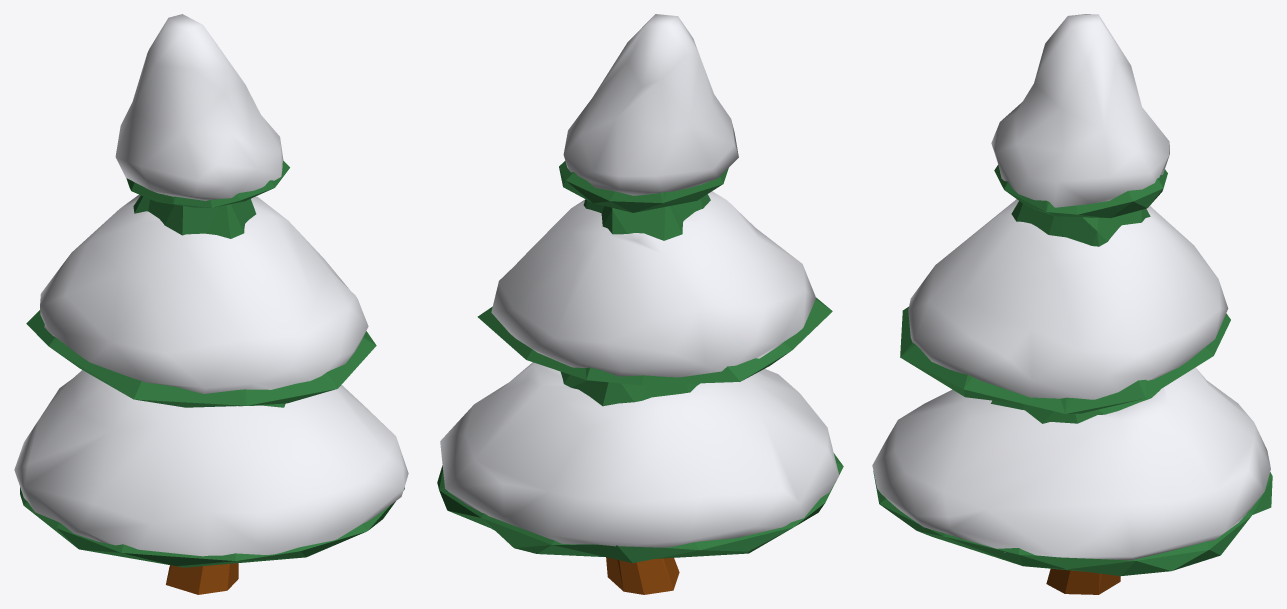
Rendered from SnowTree4.glb.
The picture shows the model from 3 angles, left to right: view 1: azimuth 30°, elevation 25°; view 2: azimuth 150°, elevation 25°; view 3: azimuth 270°, elevation 25°; orthographic projection.
Parts seen in each view (by area): view 1: pine.004; view 2: pine.004; view 3: pine.004.
Part boxes in pixels (x1=…): pine.004: x1=14, y1=14, x2=408, y2=594; pine.004: x1=437, y1=14, x2=843, y2=594; pine.004: x1=872, y1=14, x2=1272, y2=594.
Bounding box in the file's own units: 2.49 × 3.89 × 2.54.
